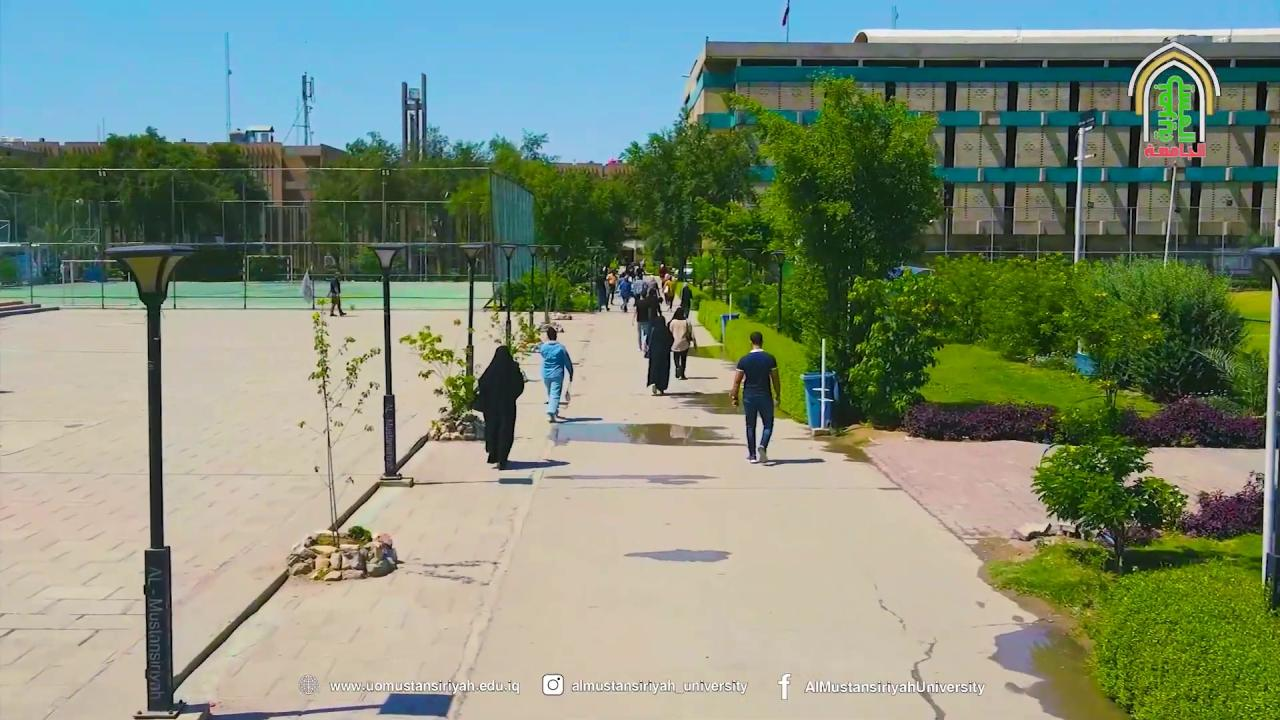person: (729, 330, 780, 463), (474, 345, 524, 470), (533, 326, 573, 423), (643, 313, 673, 395), (668, 307, 696, 379), (327, 270, 345, 317)
tree: (725, 84, 954, 441), (304, 126, 558, 280), (1055, 254, 1248, 408), (39, 127, 257, 247), (617, 104, 753, 283), (1029, 431, 1188, 572), (297, 306, 382, 549), (528, 163, 624, 309), (844, 313, 940, 429), (981, 251, 1074, 362), (398, 322, 479, 440), (693, 198, 771, 316), (490, 266, 583, 326)
